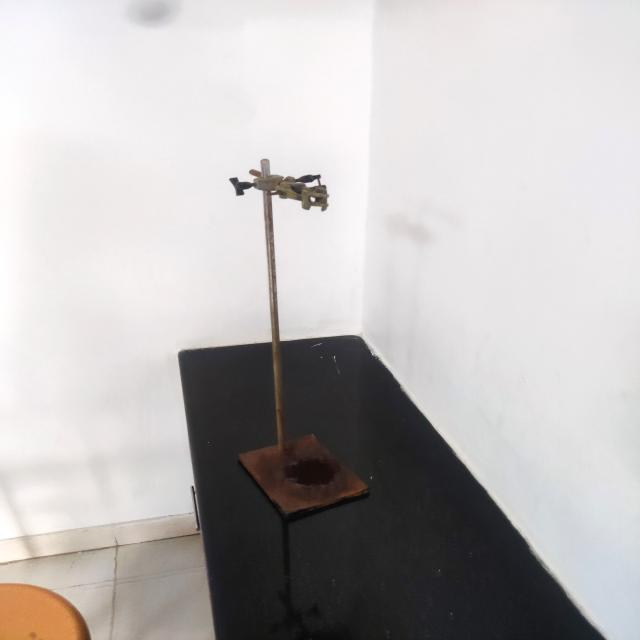Burette_Stands: (188, 132, 399, 546)
